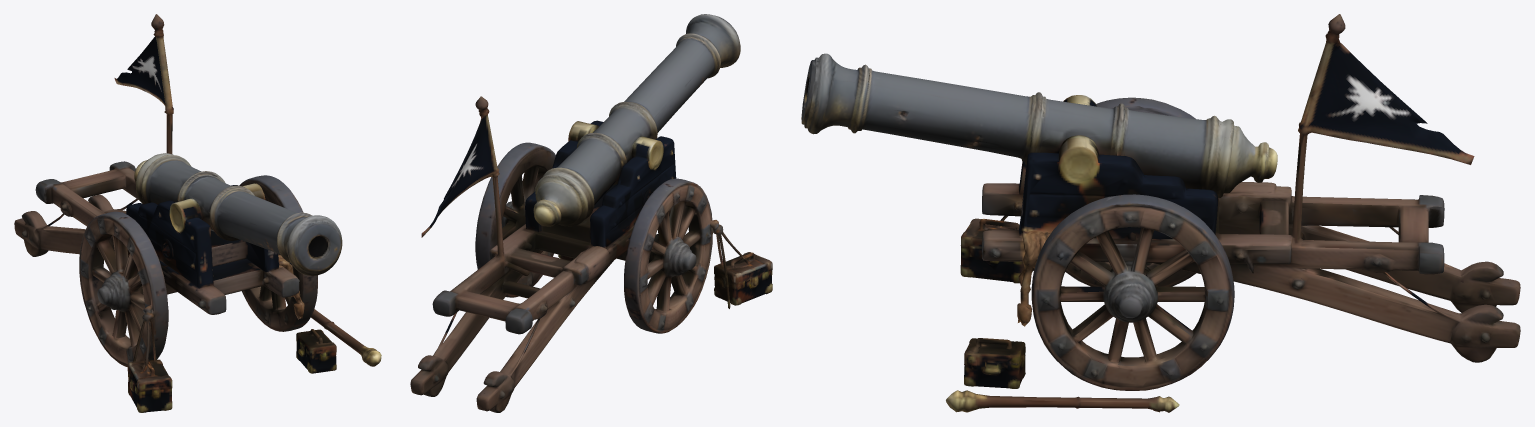
File: cannon-black-hy3-v1.glb
3 views of the same model, side by side, from view 1: azimuth 30°, elevation 25°; view 2: azimuth 150°, elevation 25°; view 3: azimuth 270°, elevation 25° (orthographic). The views are drawn at different scales.
Parts seen in each view (by area): view 1: node_0; view 2: node_0; view 3: node_0.
Part boxes in pixels (left/top/right/bottom): node_0: left=14, top=14, right=381, bottom=412; node_0: left=410, top=14, right=772, bottom=412; node_0: left=801, top=14, right=1520, bottom=412.
Size of the model in its own units: 1.25 by 1.33 by 2.48.
1 material, 1 textured.
